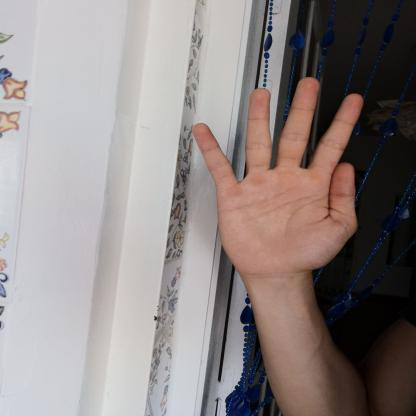SHEEN: (181, 70, 376, 288)
